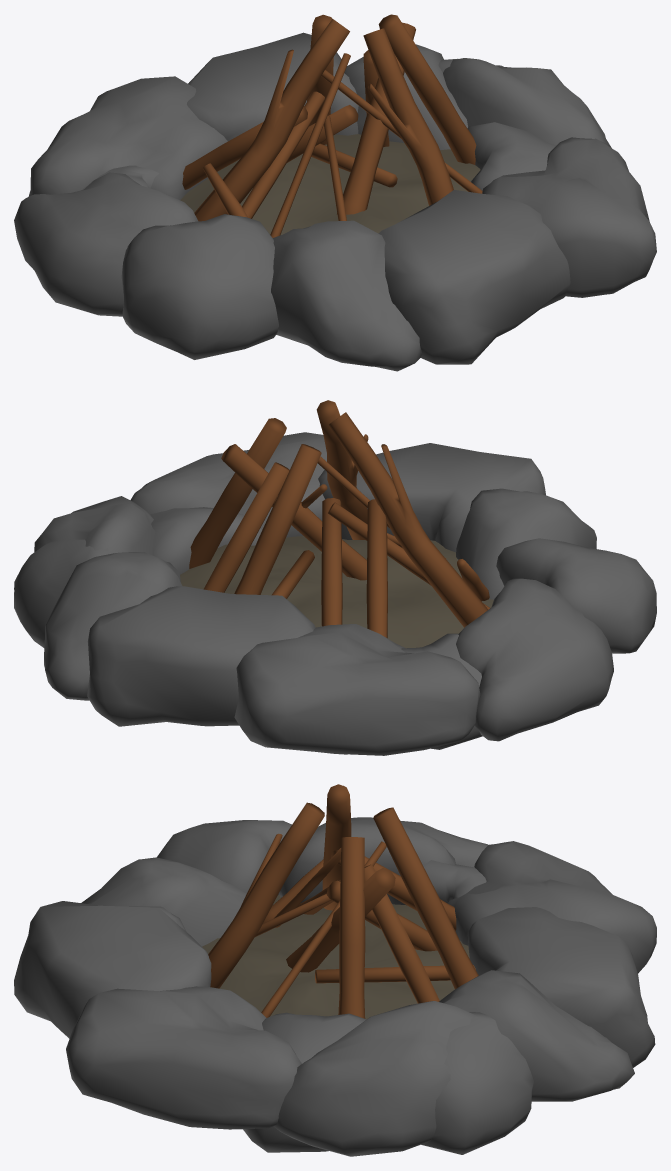
Rendered from bonefire.fbx.
3 views of the same model, one above another, from view 1: azimuth 30°, elevation 25°; view 2: azimuth 150°, elevation 25°; view 3: azimuth 270°, elevation 25° (orthographic). The views are drawn at different scales.
Visible parts, largest first — view 1: 円.005; view 2: 円.005; view 3: 円.005.
Part boxes in pixels (box(x1,y1,x2,y2)): 円.005: box(14, 14, 656, 371); 円.005: box(14, 400, 656, 755); 円.005: box(14, 784, 656, 1156).
Bounding box in the file's own units: 1.94 × 0.8152 × 1.87.
